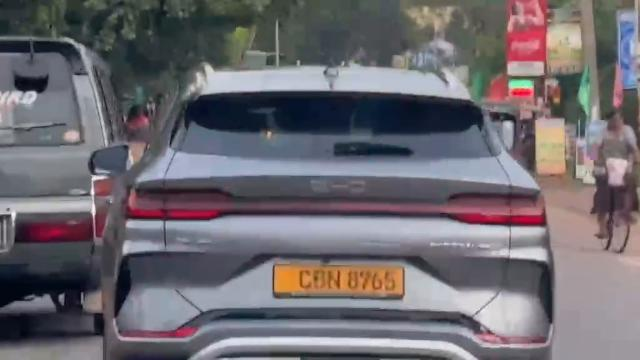number plate: (270, 256, 412, 309)
